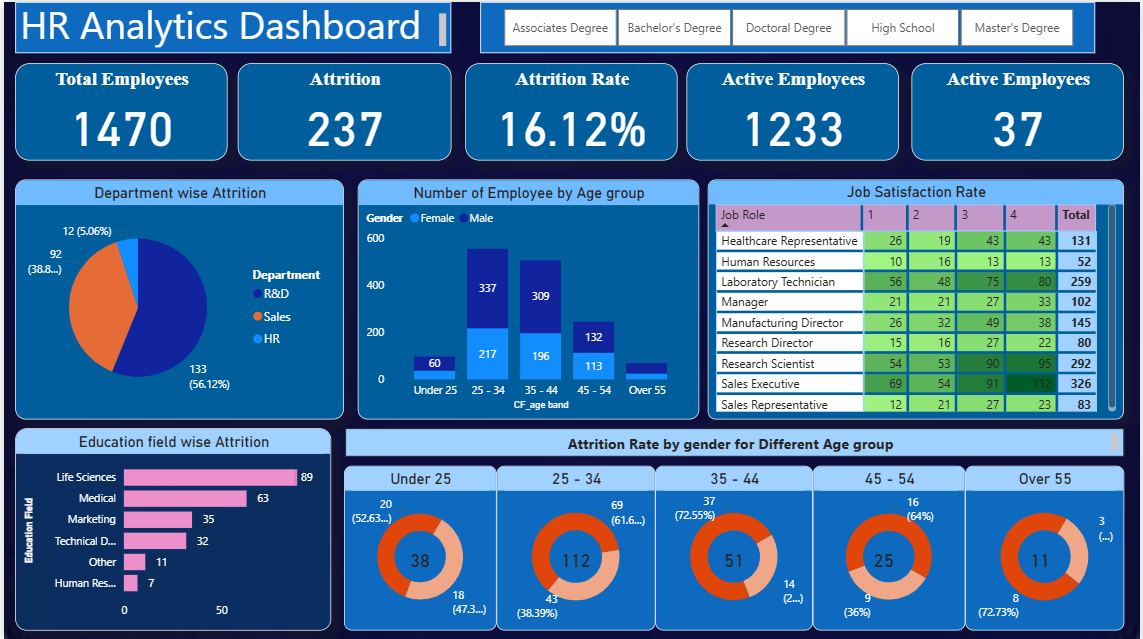

This screenshot's page, from the dashboard's own definition file:
{"tool":"powerbi","page":{"name":"Page 1","canvas":[1280,720],"ordinal":0},"visuals":[{"type":"card","title":"Total Employees","fields":{"Values":["Sum(HR data.Employee Count)"]},"box":[12.7,69,239.4,109.9],"z":0},{"type":"card","title":"Attrition Rate","fields":{"Values":["HR data.Attrition Rate"]},"box":[519.7,69,239.4,109.9],"z":1000},{"type":"card","title":"Attrition","fields":{"Values":["Sum(HR data.Attrition Count)"]},"box":[263.4,69,240.8,109.9],"z":2000},{"type":"card","title":"Active Employees","fields":{"Values":["HR data.active Employees"]},"box":[769,69,239.4,109.9],"z":3000},{"type":"card","title":"Active Employees","fields":{"Values":["Avg(HR data.Age)"]},"box":[1022.5,69,239.4,109.9],"z":4000},{"type":"pieChart","title":"Department wise Attrition","fields":{"Category":["HR data.Department"],"Y":["Sum(HR data.Attrition Count)"]},"box":[12.7,200,370.4,270.4],"z":5000},{"type":"columnChart","title":"Number of Employee by Age group","fields":{"Category":["HR data.CF_age band"],"Y":["Sum(HR data.Employee Count)"],"Series":["HR data.Gender"]},"box":[398.6,200,384.5,270.4],"z":6000},{"type":"pivotTable","title":"Job Satisfaction Rate","fields":{"Rows":["HR data.Job Role"],"Columns":["HR data.Job Satisfaction"],"Values":["Sum(HR data.Employee Count)"]},"box":[793,200,469,270.4],"z":7000},{"type":"barChart","title":"Education field wise Attrition","fields":{"Category":["HR data.Education Field"],"Y":["Sum(HR data.Attrition Count)"]},"box":[12.7,480.3,356.3,228.2],"z":8000},{"type":"donutChart","title":"Under 25","fields":{"Category":["HR data.Gender"],"Y":["Sum(HR data.Attrition Count)"],"Series":["HR data.CF_age band"]},"box":[383.1,522.5,171.8,185.9],"z":9000},{"type":"textbox","box":[384.5,480.3,877.5,32.4],"z":10000},{"type":"donutChart","title":"25 - 34","fields":{"Category":["HR data.Gender"],"Y":["Sum(HR data.Attrition Count)"],"Series":["HR data.CF_age band"]},"box":[554.9,522.5,178.9,185.9],"z":11000},{"type":"donutChart","title":"35 - 44","fields":{"Category":["HR data.Gender"],"Y":["Sum(HR data.Attrition Count)"],"Series":["HR data.CF_age band"]},"box":[733.8,522.5,177.5,185.9],"z":12000},{"type":"donutChart","title":"45 - 54","fields":{"Category":["HR data.Gender"],"Y":["Sum(HR data.Attrition Count)"],"Series":["HR data.CF_age band"]},"box":[911.3,522.5,171.8,185.9],"z":13000},{"type":"donutChart","title":"Over 55","fields":{"Category":["HR data.Gender"],"Y":["Sum(HR data.Attrition Count)"],"Series":["HR data.CF_age band"]},"box":[1083.1,522.5,178.9,185.9],"z":14000},{"type":"card","fields":{"Values":["Sum(HR data.Attrition Count)"]},"box":[452.1,615.5,33.8,28.2],"z":15000},{"type":"card","fields":{"Values":["Sum(HR data.Attrition Count)"]},"box":[621.1,615.5,46.5,28.2],"z":16000},{"type":"card","fields":{"Values":["Sum(HR data.Attrition Count)"]},"box":[805.6,615.5,33.8,28.2],"z":17000},{"type":"card","fields":{"Values":["Sum(HR data.Attrition Count)"]},"box":[974.6,615.5,33.8,28.2],"z":18000},{"type":"card","fields":{"Values":["Sum(HR data.Attrition Count)"]},"box":[1150.7,615.5,33.8,28.2],"z":19000},{"type":"textbox","box":[12.7,0,491.5,57.7],"z":19001},{"type":"slicer","fields":{"Values":["HR data.Education"]},"box":[536.6,0,693,57.7],"z":19002}]}

Visuals, with their boxes in screenshot pixels (x1, y1, x2, y2), scaled from the page's 1280x720 canvas onto the 1143x639 screenshot:
"Total Employees" card: bbox=(11, 61, 225, 159)
"Attrition Rate" card: bbox=(464, 61, 678, 159)
"Attrition" card: bbox=(235, 61, 450, 159)
"Active Employees" card: bbox=(687, 61, 900, 159)
"Active Employees" card: bbox=(913, 61, 1127, 159)
"Department wise Attrition" pieChart: bbox=(11, 178, 342, 417)
"Number of Employee by Age group" columnChart: bbox=(356, 178, 699, 417)
"Job Satisfaction Rate" pivotTable: bbox=(708, 178, 1127, 417)
"Education field wise Attrition" barChart: bbox=(11, 426, 330, 629)
"Under 25" donutChart: bbox=(342, 464, 496, 629)
textbox: bbox=(343, 426, 1127, 455)
"25 - 34" donutChart: bbox=(496, 464, 655, 629)
"35 - 44" donutChart: bbox=(655, 464, 814, 629)
"45 - 54" donutChart: bbox=(814, 464, 967, 629)
"Over 55" donutChart: bbox=(967, 464, 1127, 629)
card - Sum(HR data.Attrition Count): bbox=(404, 546, 434, 571)
card - Sum(HR data.Attrition Count): bbox=(555, 546, 596, 571)
card - Sum(HR data.Attrition Count): bbox=(719, 546, 750, 571)
card - Sum(HR data.Attrition Count): bbox=(870, 546, 900, 571)
card - Sum(HR data.Attrition Count): bbox=(1028, 546, 1058, 571)
textbox: bbox=(11, 0, 450, 51)
slicer - HR data.Education: bbox=(479, 0, 1098, 51)
